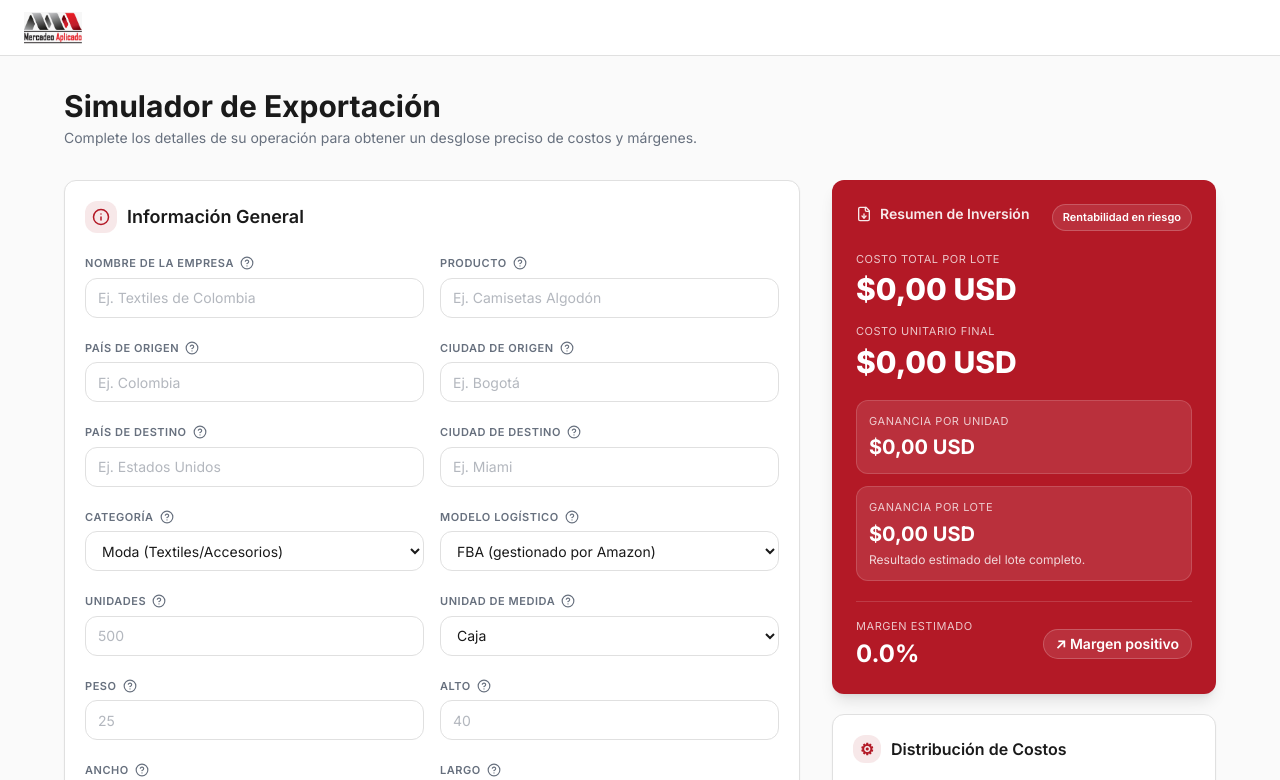
Test case: Index - UI calculadora › cambia a belleza y muestra los campos correctos
Select "Productos de Belleza" in the dropdown labelled "Categoría" at (254, 551), box top-left (85, 531), bottom-right (424, 571)
(page scrolled)
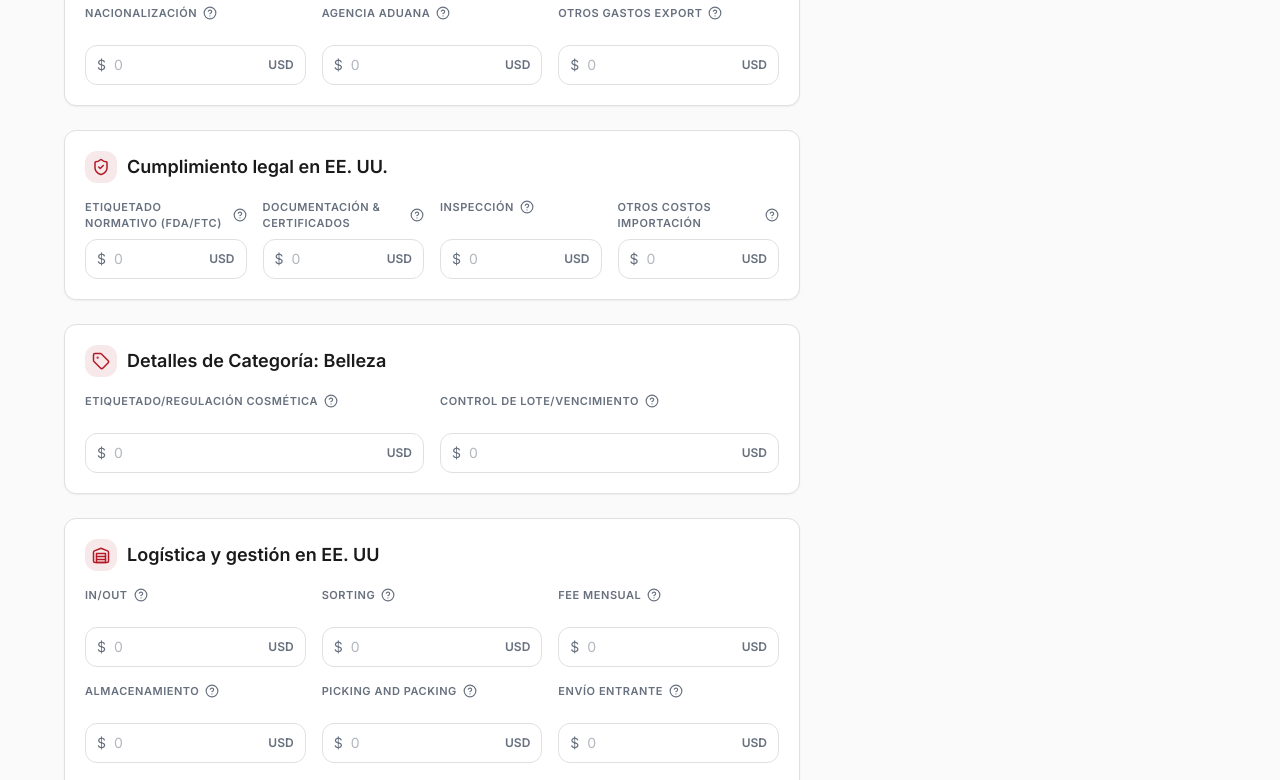
Check: the heading "Detalles de Categoría: Belleza" is shown, box top-left (85, 344), bottom-right (386, 376)
Check: the text "Etiquetado/Regulación Cosmética" is shown, box top-left (85, 392), bottom-right (318, 409)
Check: the text "Control de Lote/Vencimiento" is shown, box top-left (440, 392), bottom-right (639, 409)
